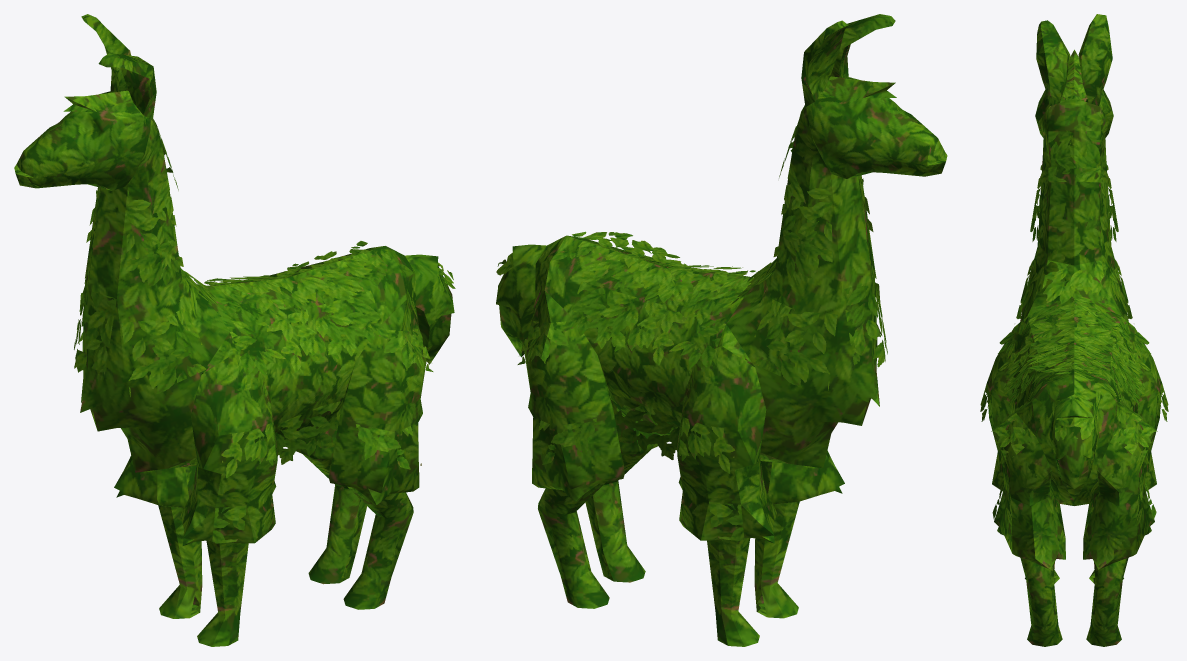
Rendered from syj_zxzhiwu01.FBX.
3 renders of one model, left to right at view 1: azimuth 30°, elevation 25°; view 2: azimuth 150°, elevation 25°; view 3: azimuth 270°, elevation 25°, orthographic. The views are drawn at different scales.
Visible parts, largest first — view 1: syj_zxzhiwu01; view 2: syj_zxzhiwu01; view 3: syj_zxzhiwu01.
Part boxes in pixels (bbox=[...]): syj_zxzhiwu01: bbox=[14, 14, 455, 646]; syj_zxzhiwu01: bbox=[496, 14, 947, 646]; syj_zxzhiwu01: bbox=[980, 14, 1168, 646].
Bounding box in the file's own units: 135 × 181 × 61.57.
